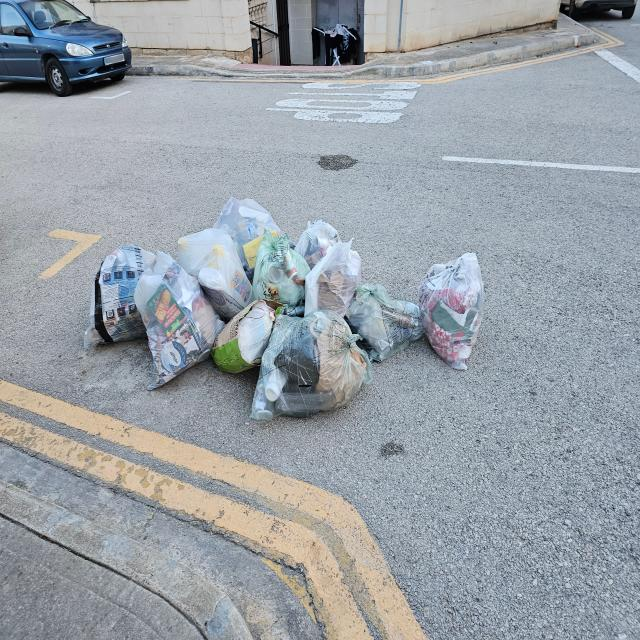grey_bag: (132, 250, 225, 395), (261, 313, 374, 422), (418, 250, 487, 372), (82, 241, 156, 352), (170, 226, 254, 313), (214, 195, 284, 282), (348, 283, 424, 361), (251, 230, 308, 318), (304, 240, 364, 317), (294, 220, 344, 269)
